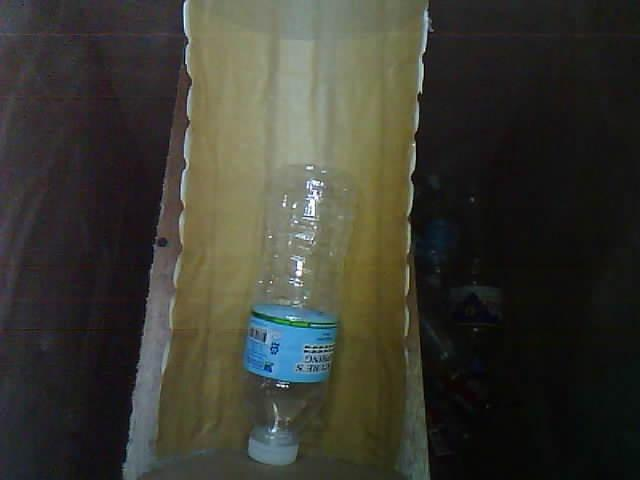small_bottle: (227, 145, 381, 480)
